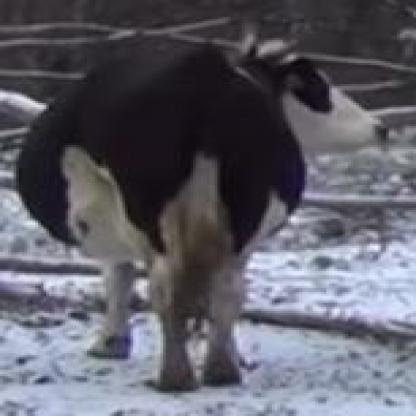cow: (18, 40, 393, 391)
